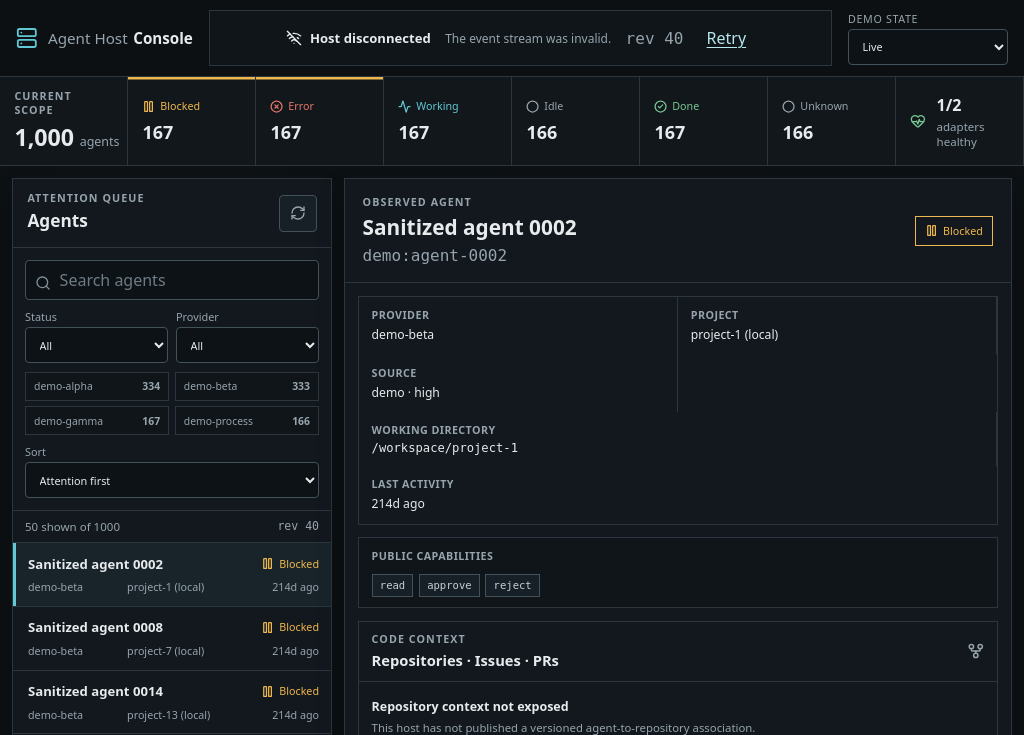
it: evaluation dashboard › restarts a terminally disconnected event connection
expect the text "Host disconnected" is shown: met, box x1=286 y1=29 x2=431 y2=47
Click the button "Retry": [726, 38] box x1=698 y1=19 x2=755 y2=57
(page scrolled)
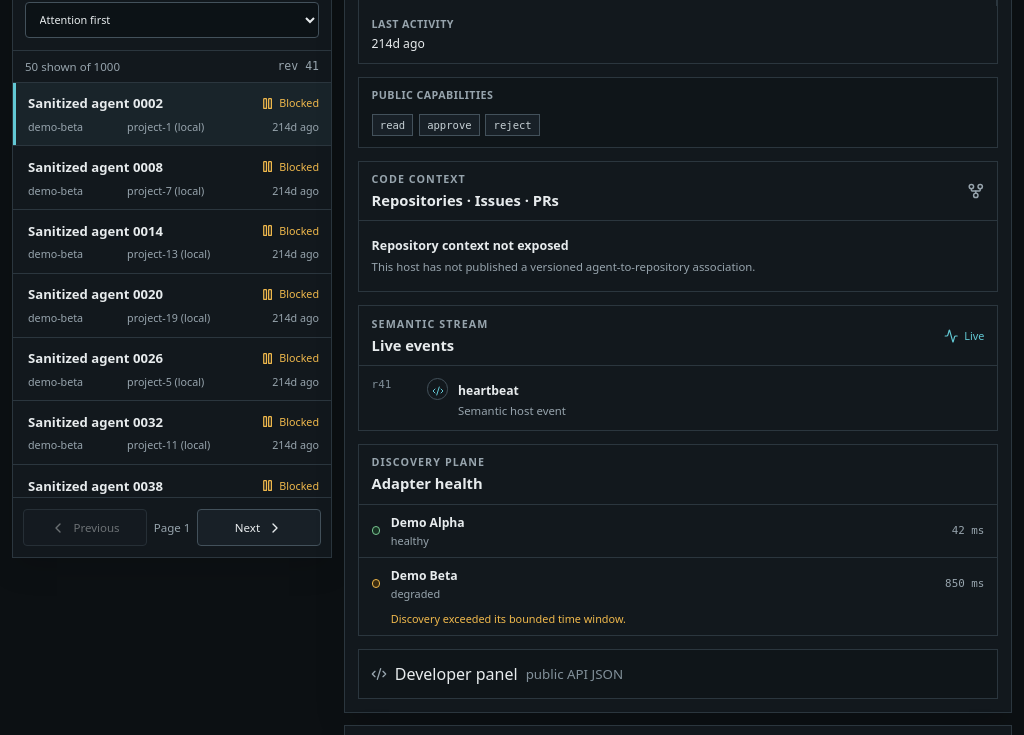
expect the text "r41" is shown: met, box x1=372 y1=378 x2=391 y2=391
